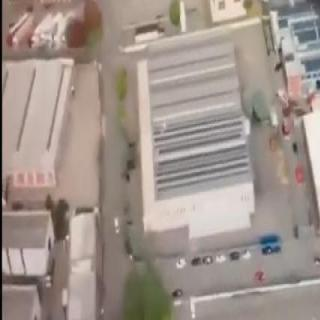smoke: (169, 0, 320, 5)
